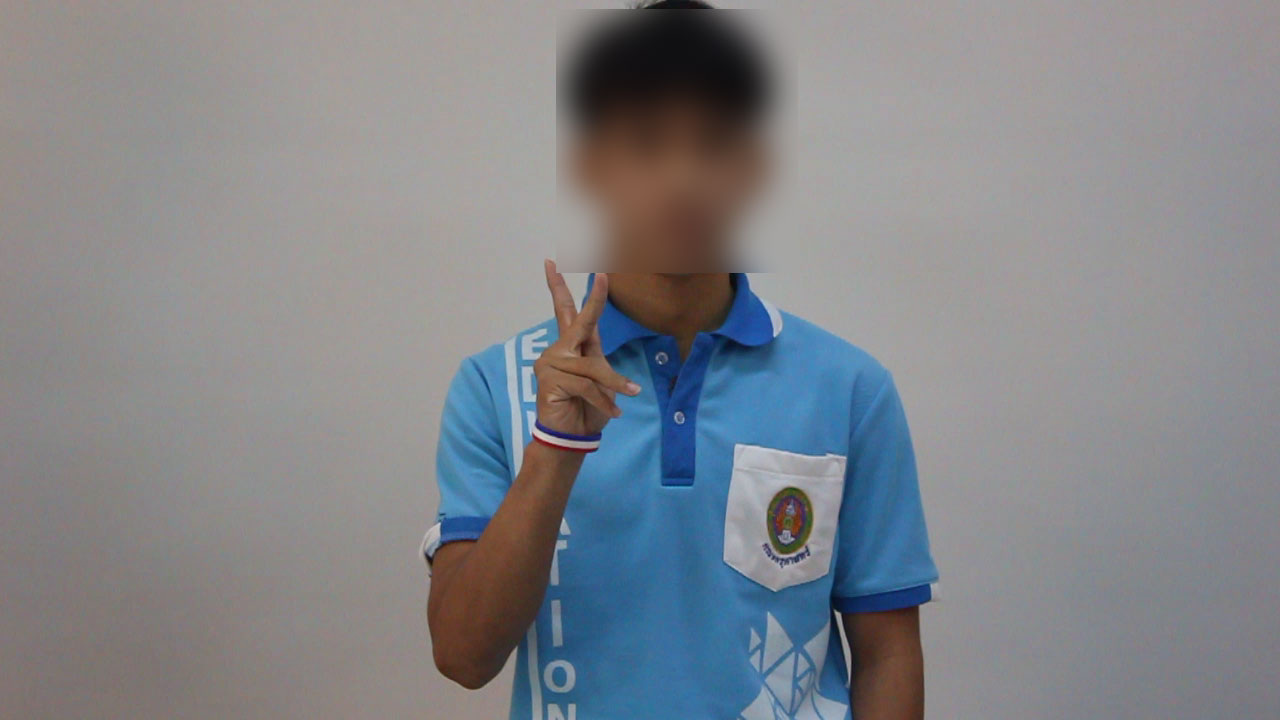ko: (517, 248, 645, 440)
